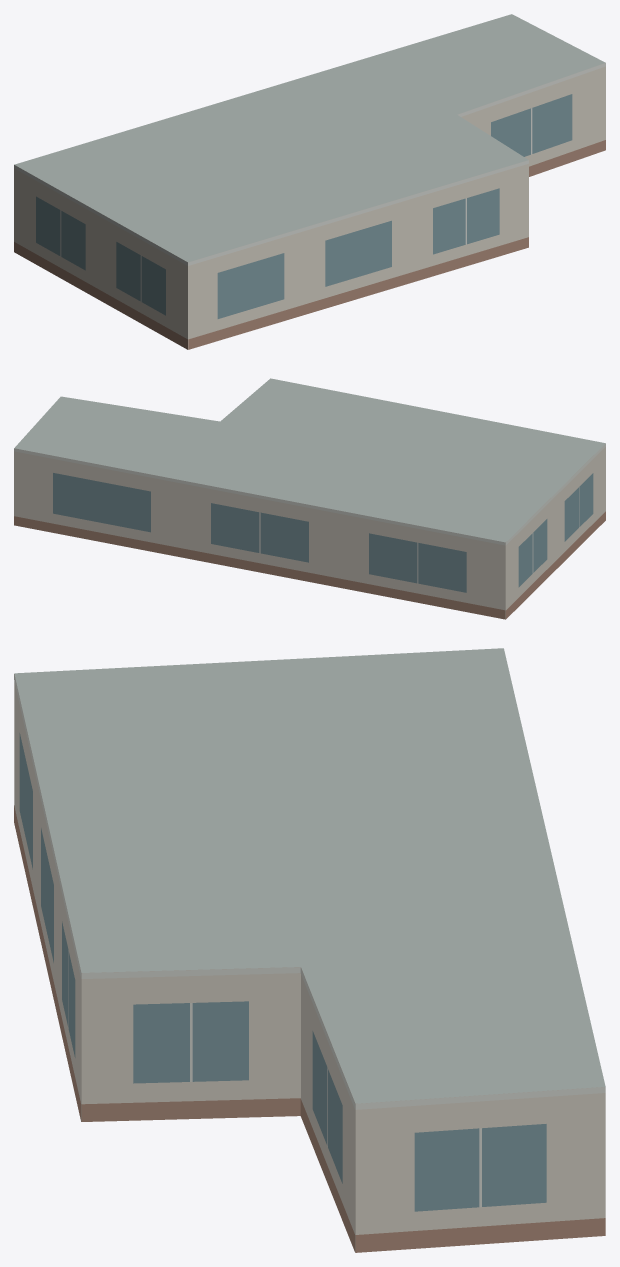
Rendered from survey-upis-32738177.glb.
The picture shows the model from 3 angles, top to bottom: view 1: azimuth 30°, elevation 25°; view 2: azimuth 150°, elevation 25°; view 3: azimuth 270°, elevation 25°; orthographic projection. The views are drawn at different scales.
Visible parts, largest first — view 1: survey-upis-32738177.tmp; view 2: survey-upis-32738177.tmp; view 3: survey-upis-32738177.tmp.
Part boxes in pixels (x1=…): survey-upis-32738177.tmp: x1=14, y1=14, x2=605, y2=349; survey-upis-32738177.tmp: x1=14, y1=378, x2=605, y2=619; survey-upis-32738177.tmp: x1=14, y1=648, x2=605, y2=1252.
Size of the model in its own units: 20.02 by 3.05 by 10.99.
